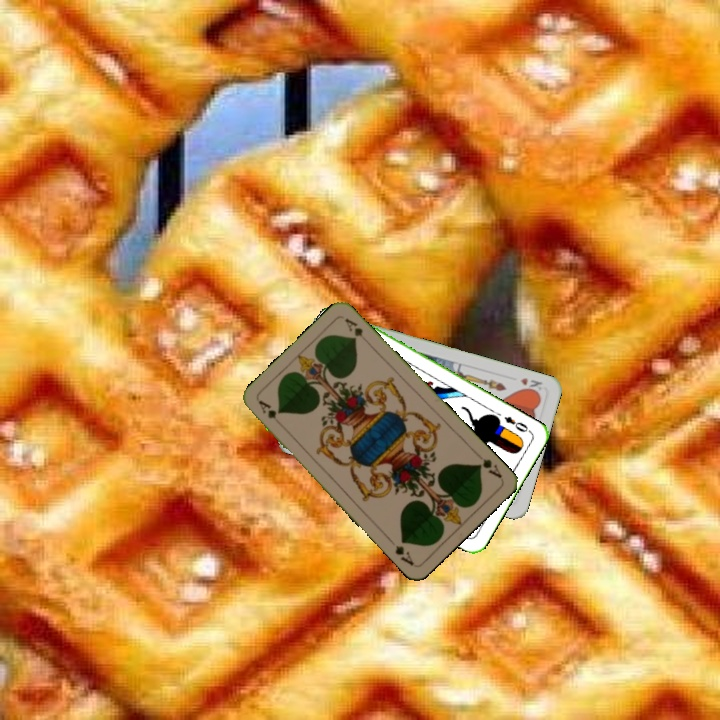EO: (500, 412, 534, 435)
GA: (473, 454, 505, 481), (254, 396, 279, 422)
HK: (516, 373, 545, 396)
